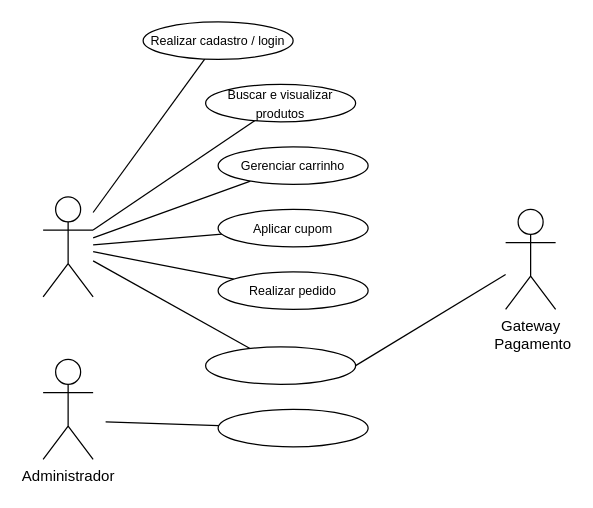
This 593x508 diagram has some shape labels left out. Here are the shapes that lost their labels. From the top down, the centre of each, then its label:
At (x=67, y=246): "Cliente".
At (x=280, y=365): "Processar pagamento".
At (x=292, y=427): "Gerenciar estoque".
